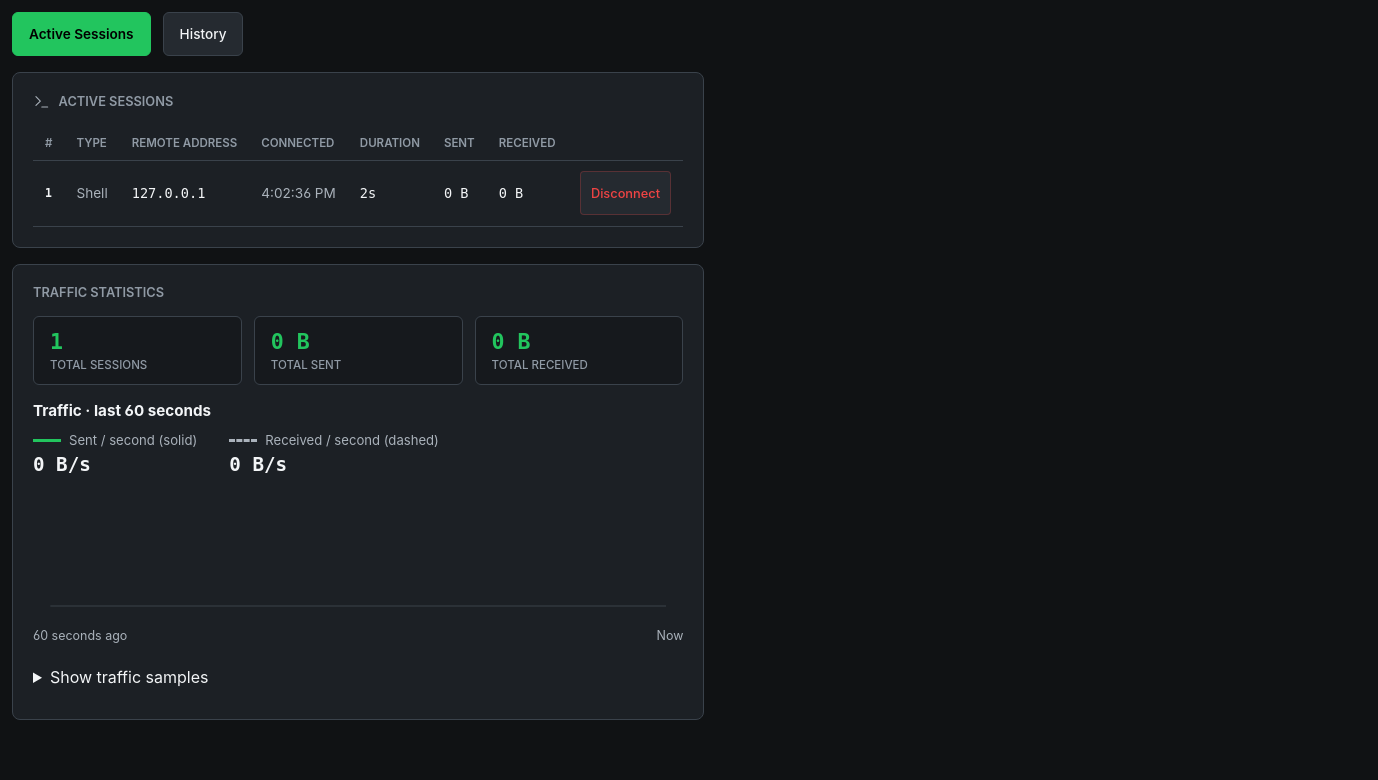
it: shows history storage errors with bounded memory records and an independent Retry
The image size is (1378, 780).
Expected: the text "127.0.0.1" is shown, [120,161,249,226]
Click the button "History": (203, 34) [163,12,244,56]
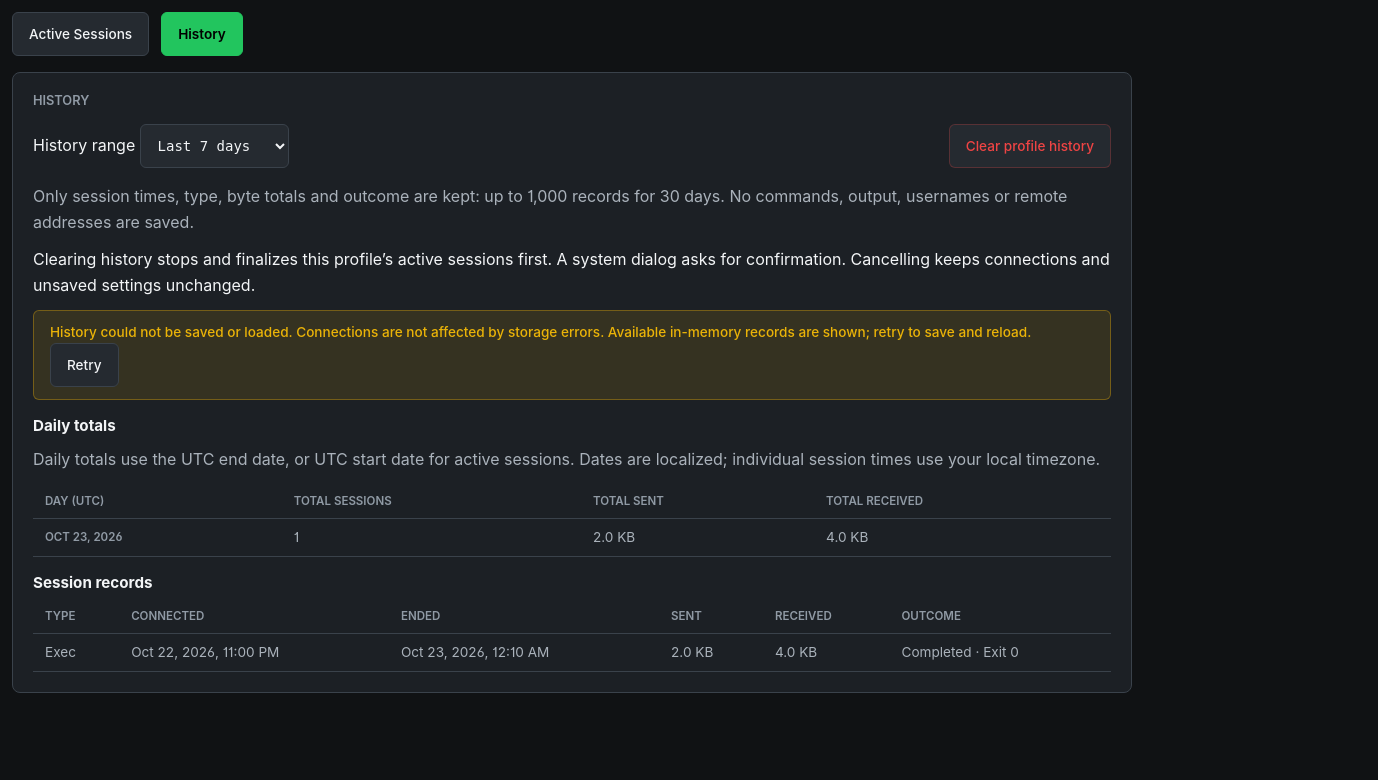
Result: the message shows "History could not be saved or loaded" at [50,324,1031,340]
Result: the text "Completed · Exit 0" is shown at [890,634,1111,671]
Click the button "Retry": (84, 365) [50,343,118,387]
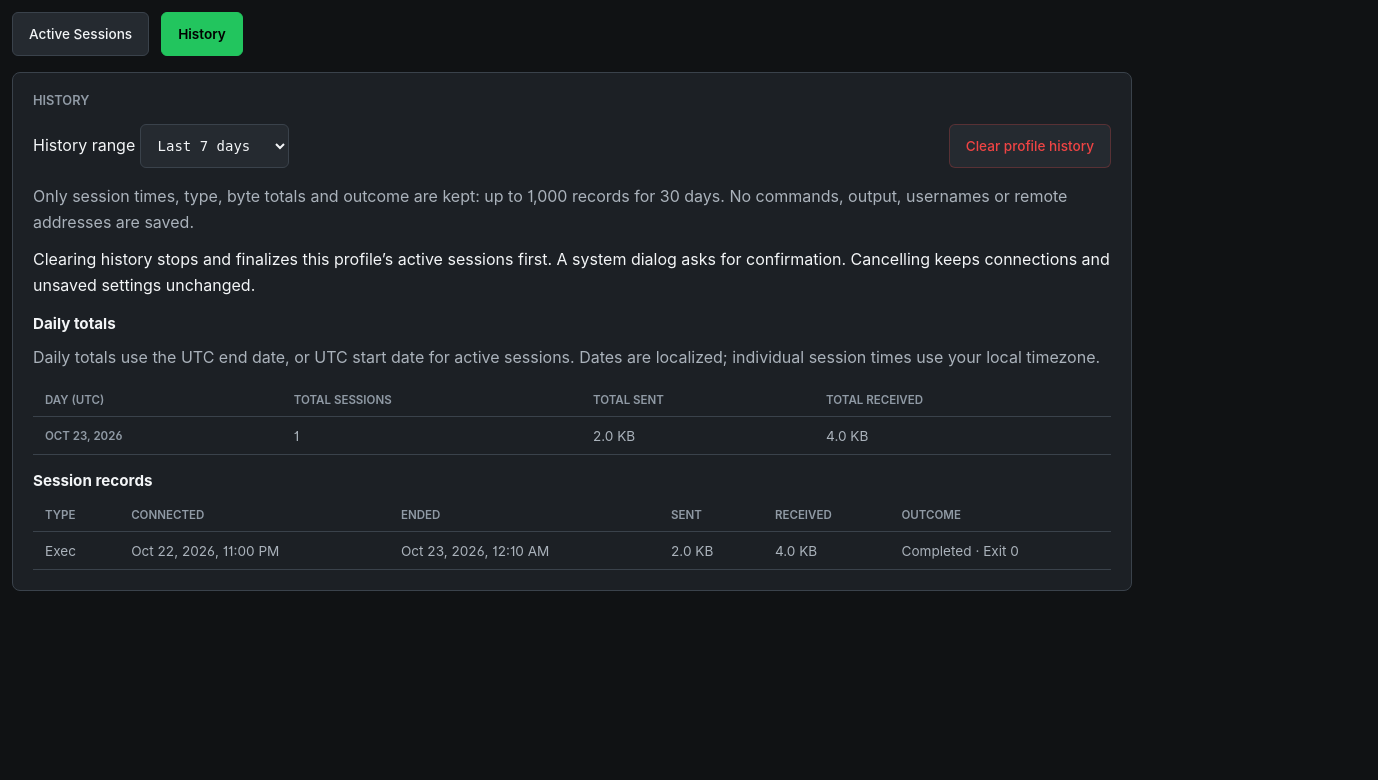
Result: the message is gone
Click the button "Active Sessions": (81, 34) [12,12,149,56]
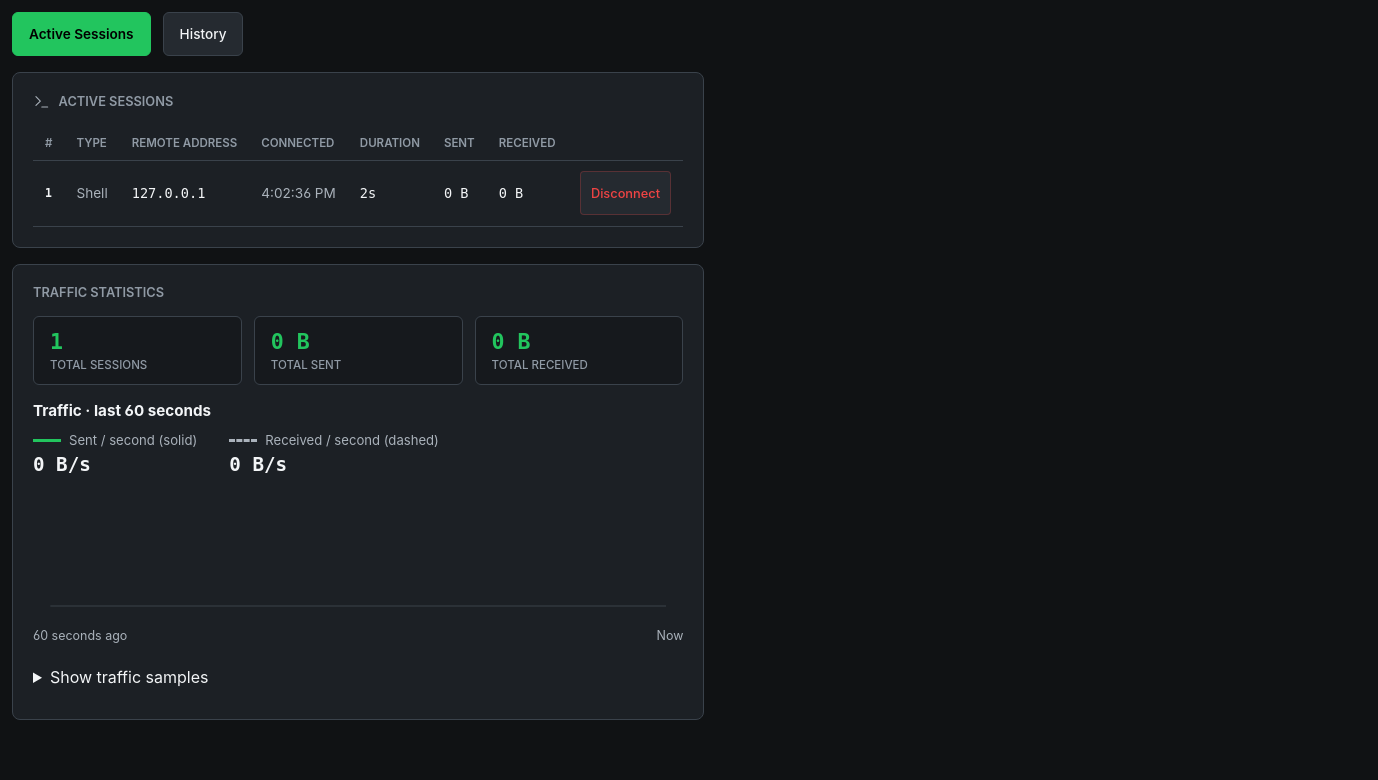
Result: the text "127.0.0.1" is shown at [120,161,249,226]
